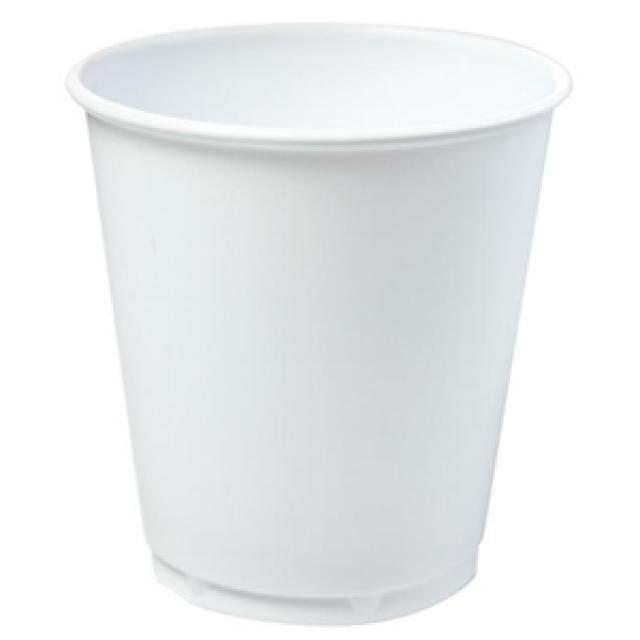plastic cup: (62, 15, 578, 634)
